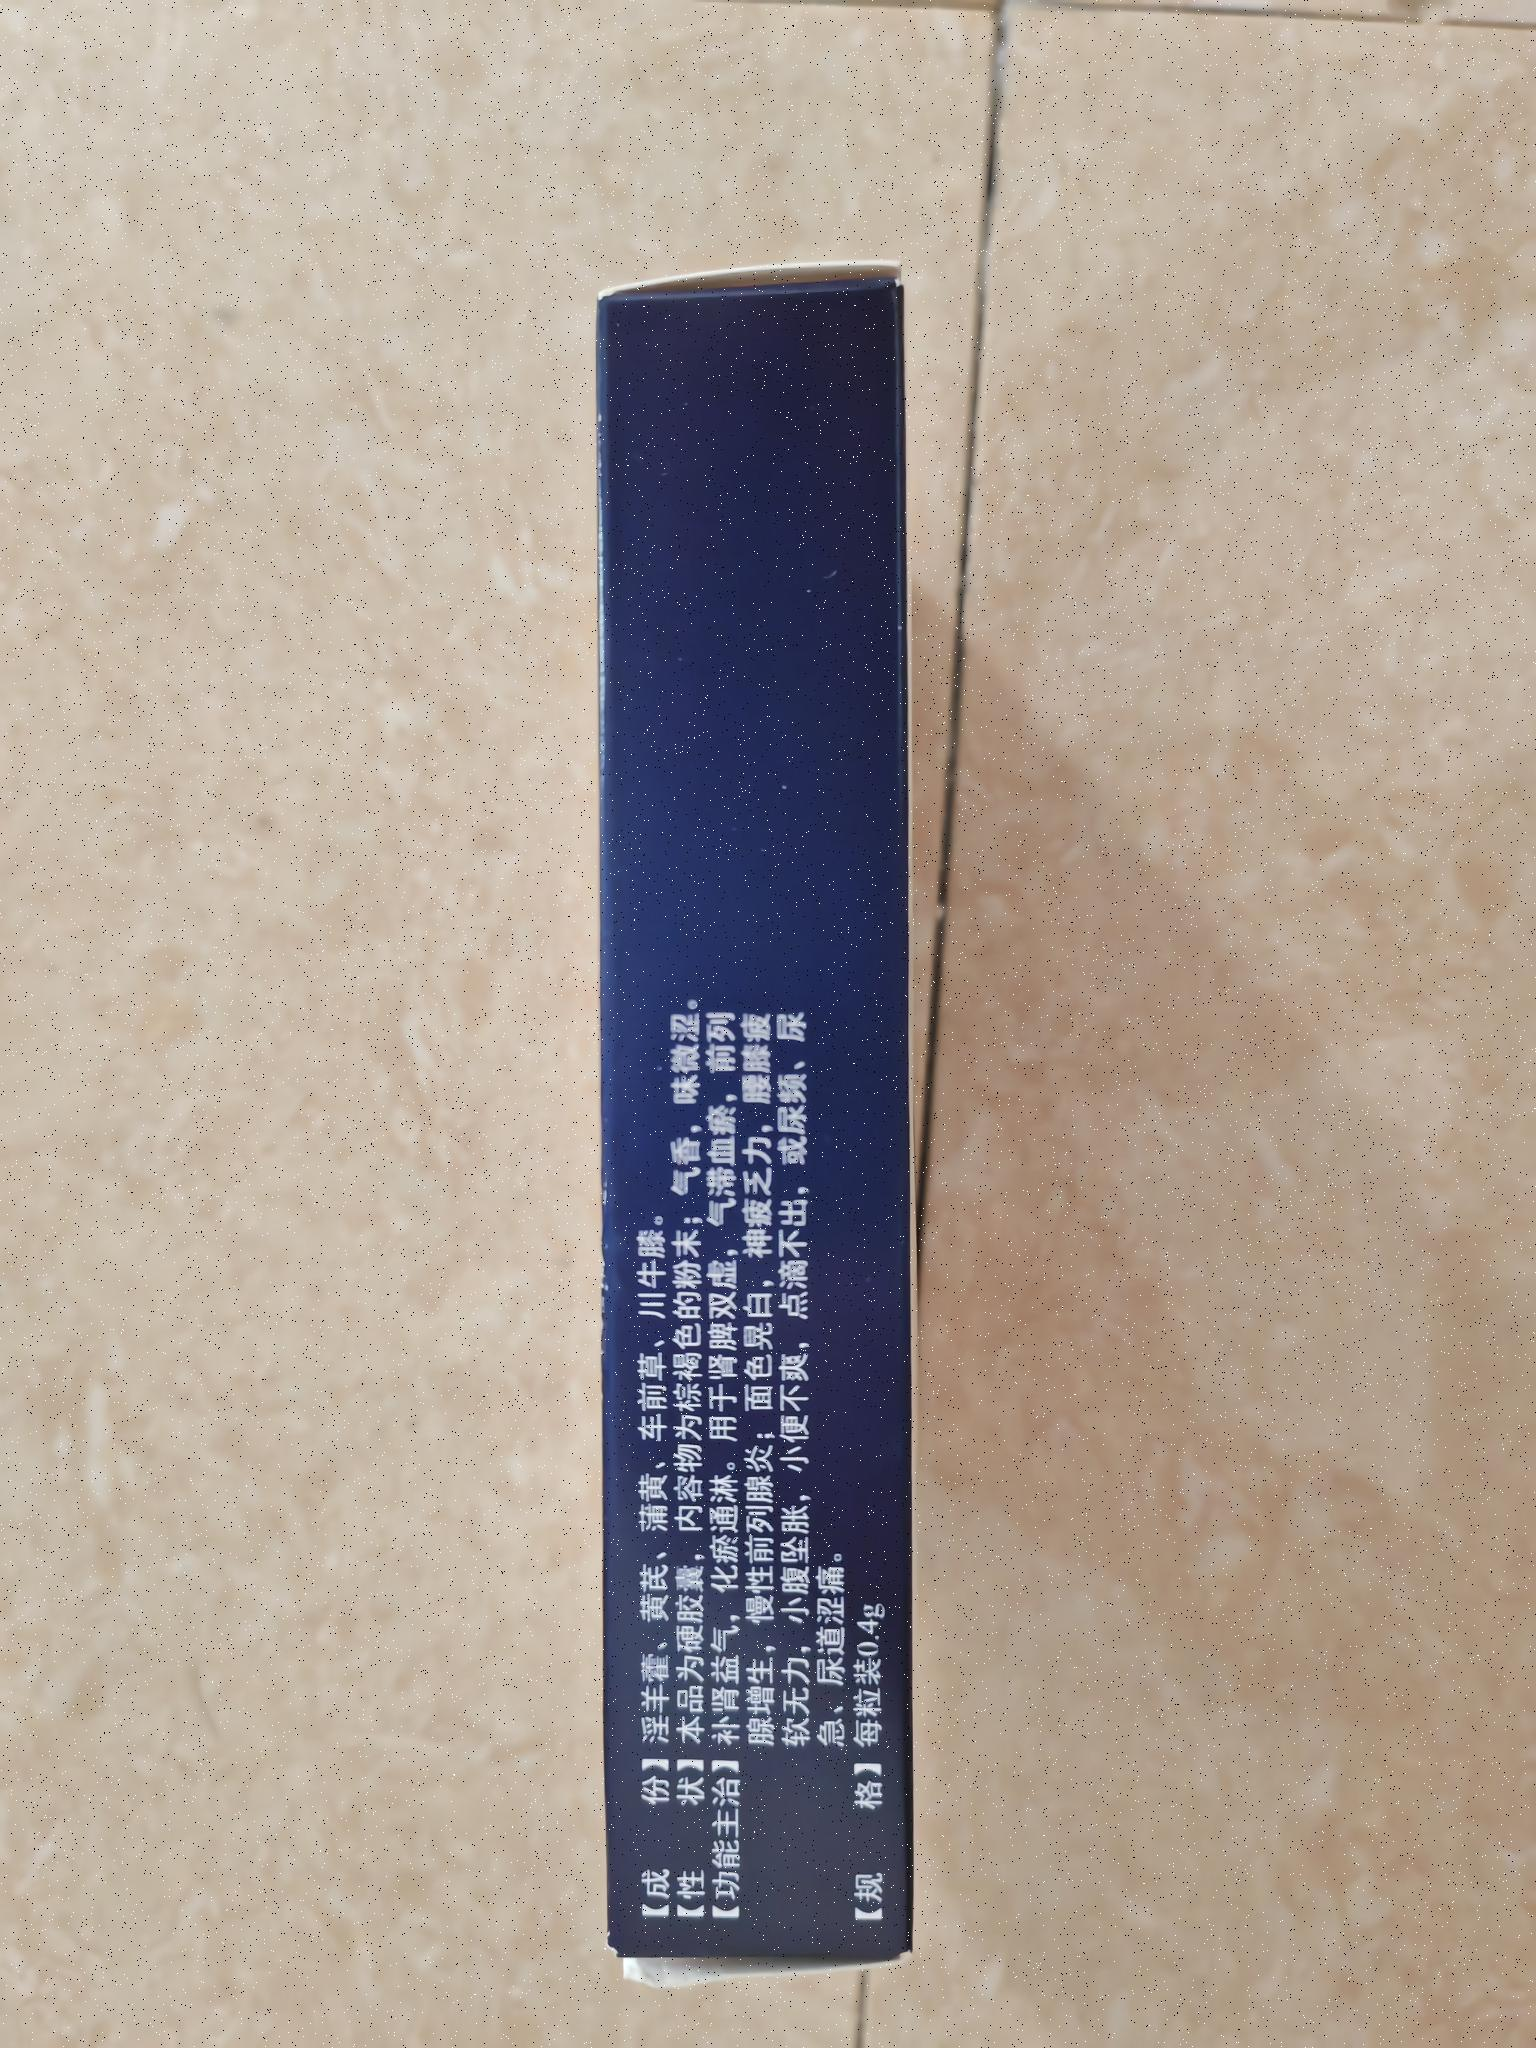Medicine2: (44, 577, 1536, 932)
